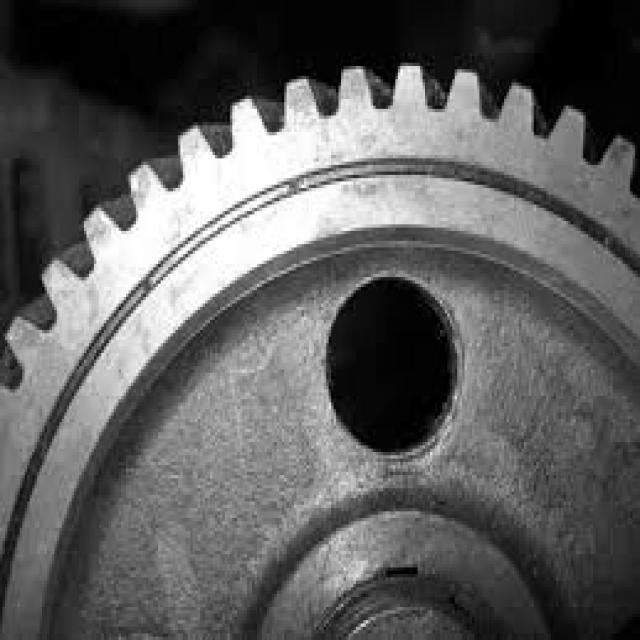No Fault: (36, 10, 640, 489)
